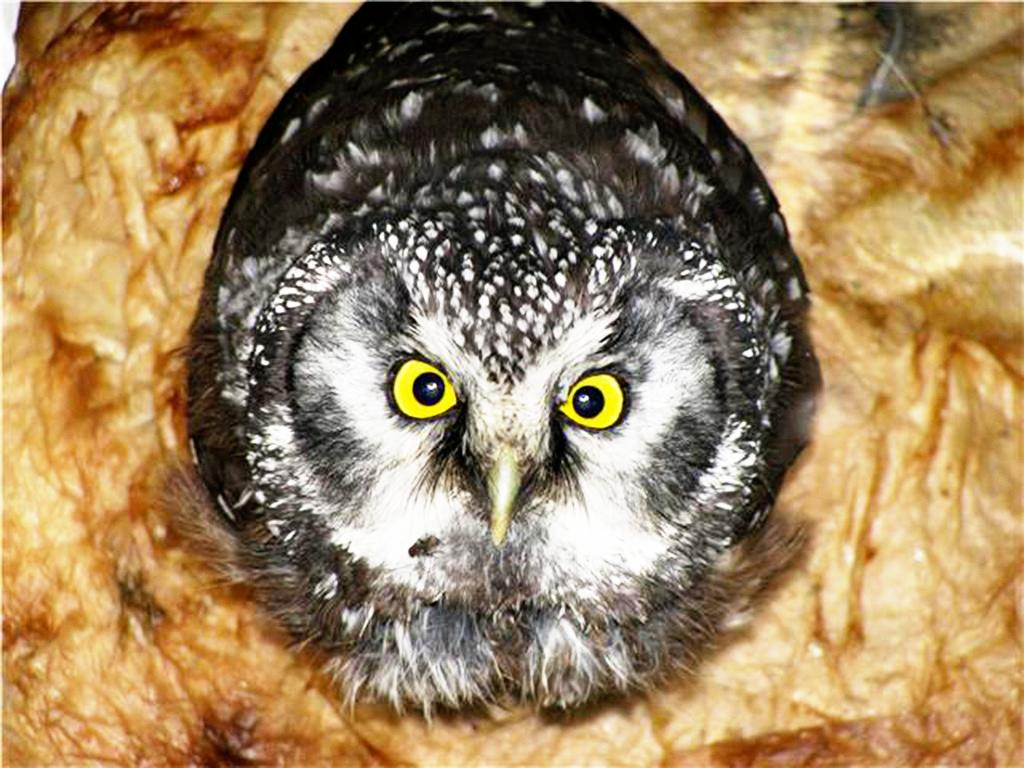Owl: (164, 4, 808, 722)
